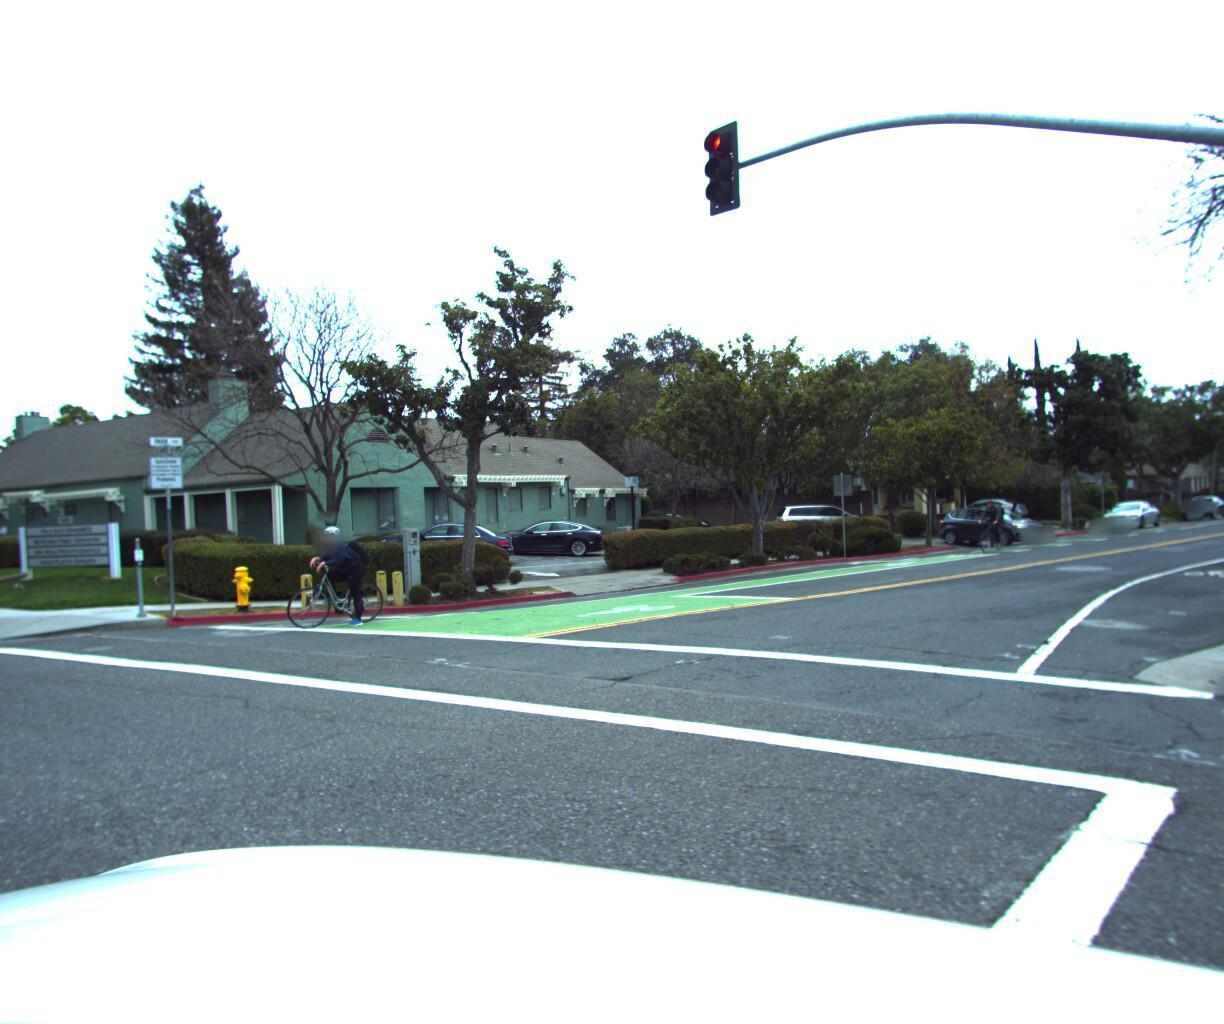bicycle: (261, 521, 413, 643), (961, 490, 1017, 547)
car: (375, 510, 521, 570), (485, 510, 608, 557), (934, 502, 1055, 544), (770, 494, 869, 535), (1092, 491, 1166, 527), (953, 490, 1033, 520), (1175, 489, 1224, 515)
